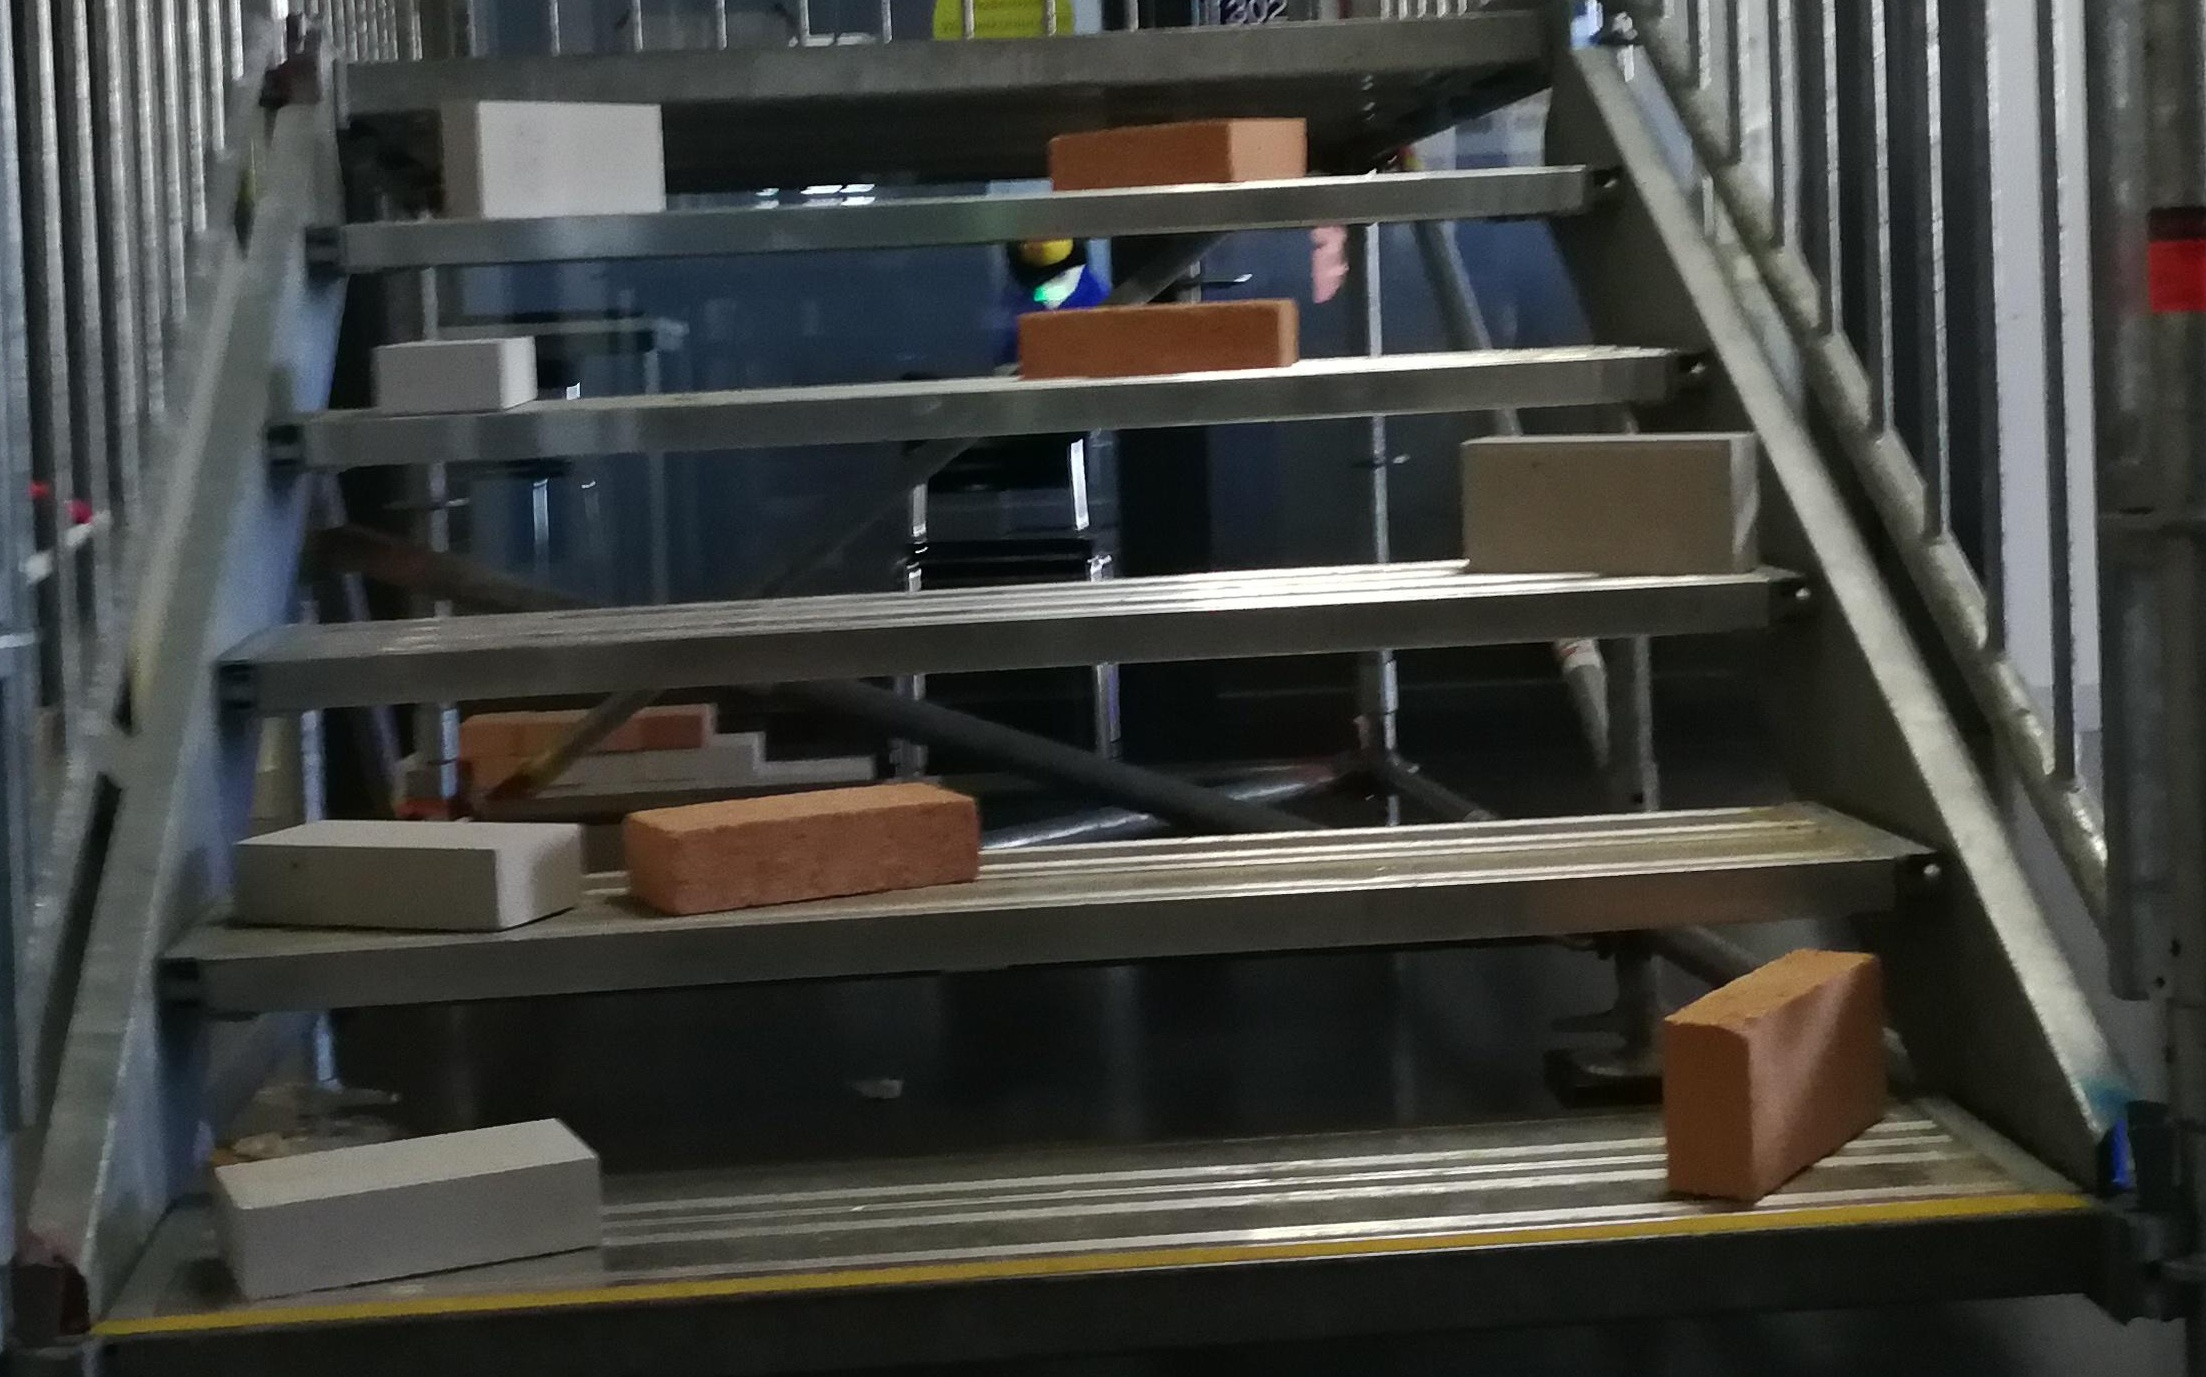brick: (216, 1125, 595, 1304), (1665, 949, 1887, 1206), (626, 782, 972, 914), (1461, 435, 1752, 574), (228, 817, 582, 930), (444, 102, 660, 214), (1020, 300, 1296, 373), (1053, 121, 1300, 179), (381, 335, 531, 408)
edge: (98, 1204, 2084, 1369), (165, 857, 1952, 1009), (217, 585, 1833, 706), (276, 354, 1705, 462), (303, 167, 1608, 268), (354, 21, 1549, 90)
